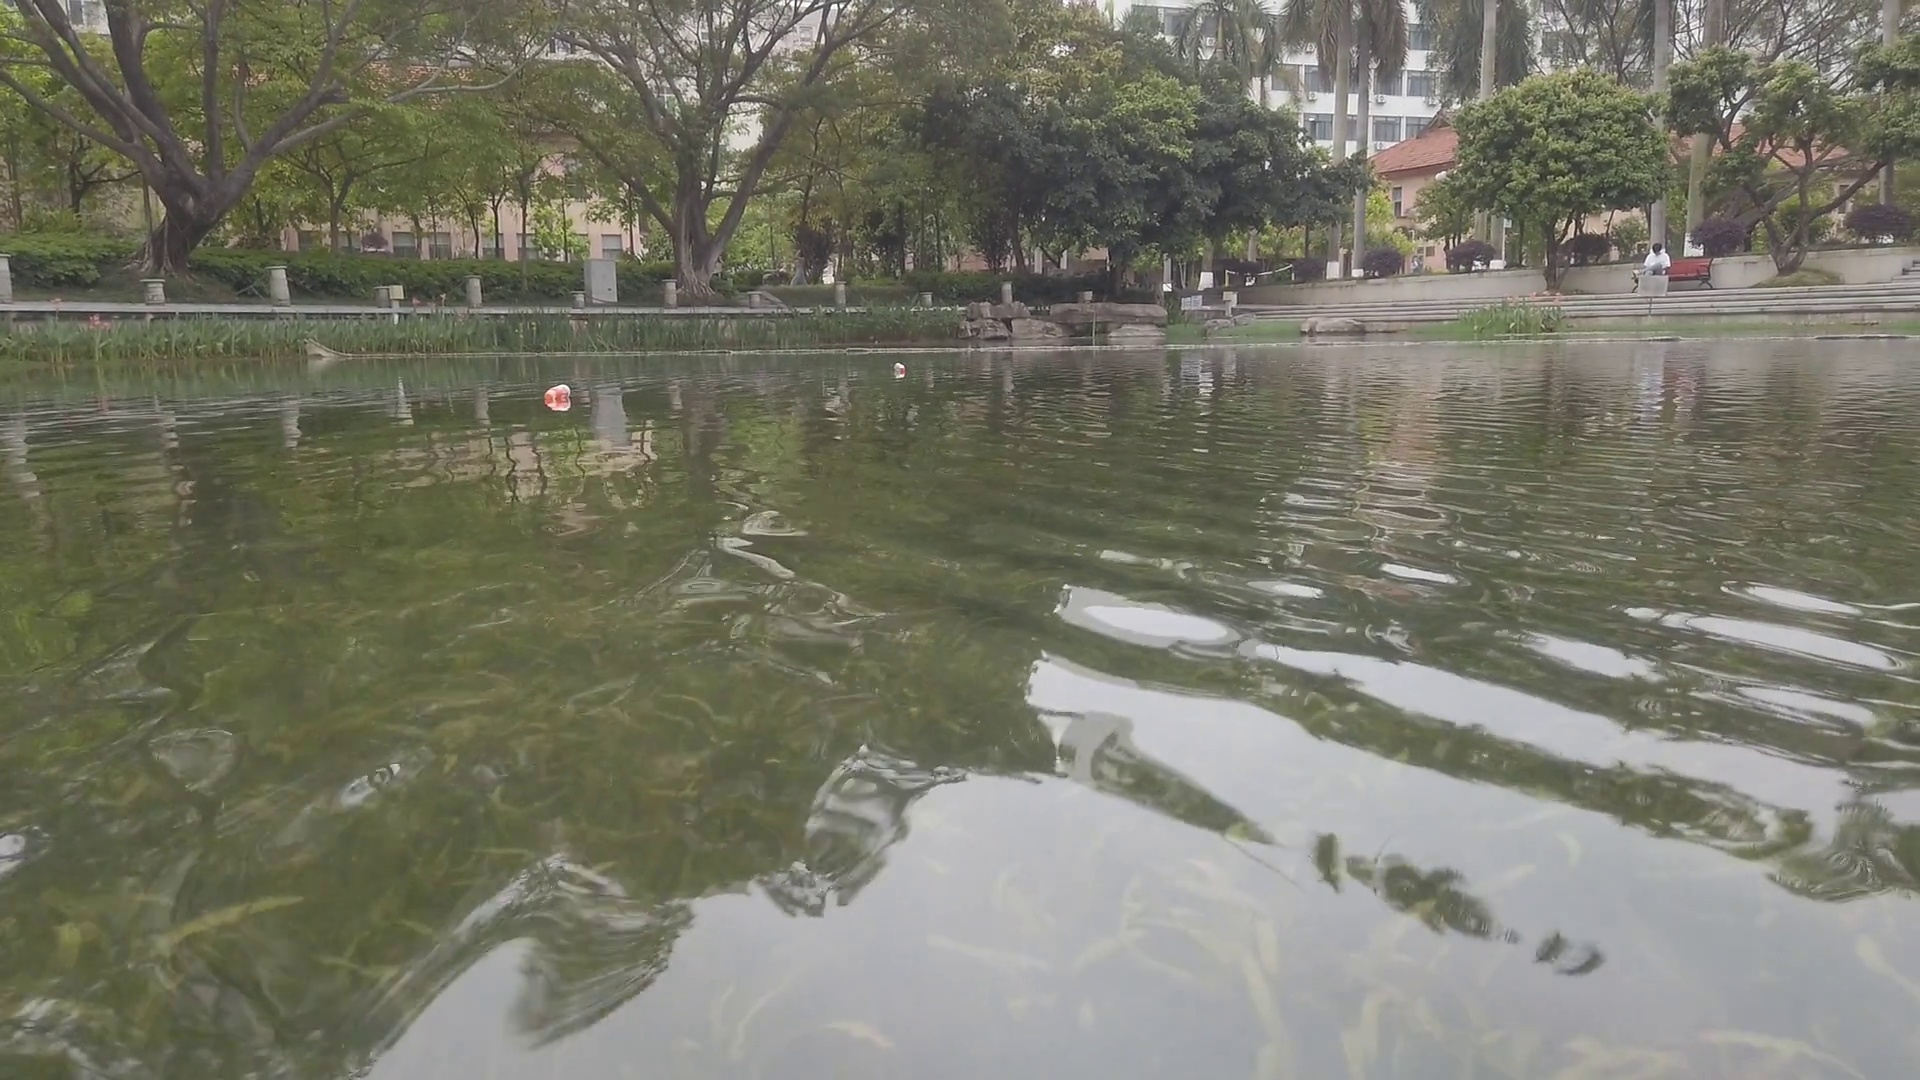bottle: (541, 382, 572, 409), (891, 360, 907, 376)
